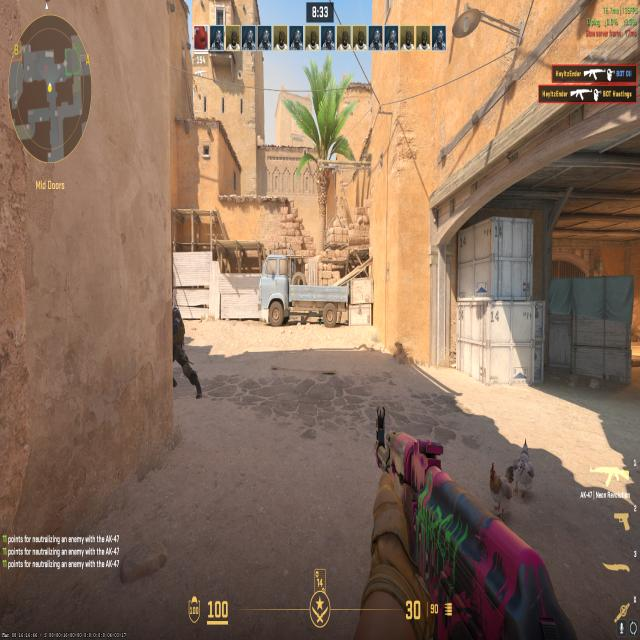ct: (173, 288, 202, 397)
